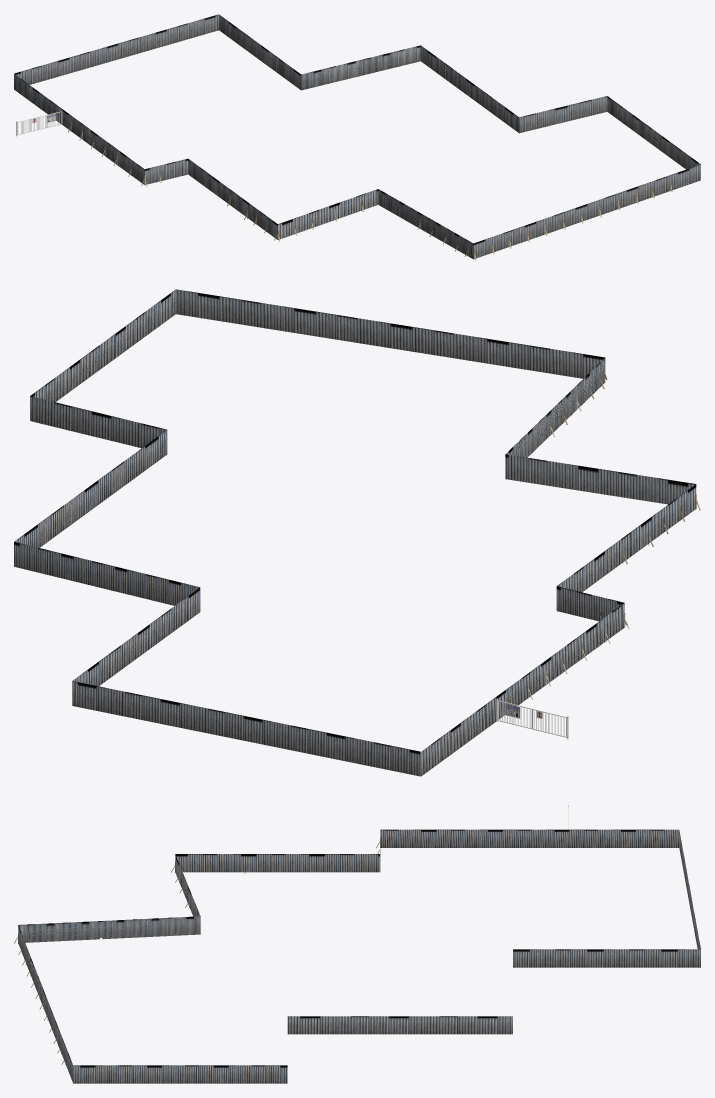
File: Patio1Estacionamento.gltf
3 renders of one model, top to bottom at view 1: azimuth 30°, elevation 25°; view 2: azimuth 150°, elevation 25°; view 3: azimuth 270°, elevation 25°, orthographic. The views are drawn at different scales.
Parts seen in each view (by area): view 1: node10, node1, node2; view 2: node10, node1; view 3: node10.
Boxes of the visible parts, <box> form: node10: <box>14,14,700,259</box>; node1: <box>16,110,62,136</box>; node2: <box>68,122,672,260</box>; node10: <box>14,289,696,776</box>; node1: <box>420,698,568,776</box>; node10: <box>18,829,700,1083</box>.
Size of the model in its own units: 81.8 by 2.89 by 90.82.
